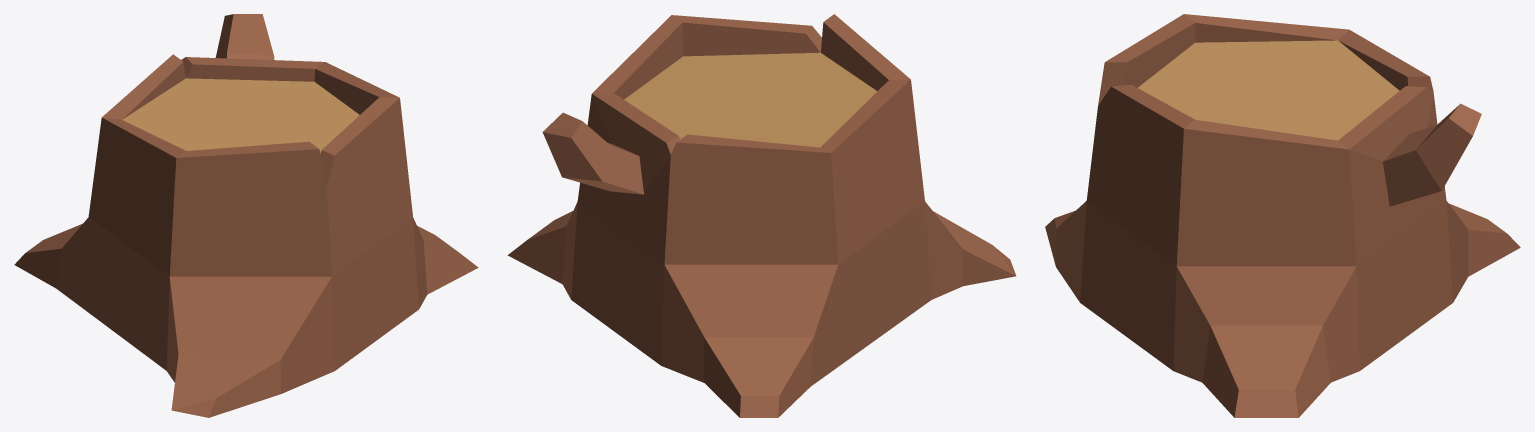
File: trunk.fbx
3 renders of one model, left to right at view 1: azimuth 30°, elevation 25°; view 2: azimuth 150°, elevation 25°; view 3: azimuth 270°, elevation 25°, orthographic. The views are drawn at different scales.
Visible parts, largest first — view 1: Circle; view 2: Circle; view 3: Circle.
Boxes of the visible parts, x1=… form: Circle: x1=14, y1=14, x2=478, y2=417; Circle: x1=507, y1=14, x2=1016, y2=417; Circle: x1=1045, y1=14, x2=1520, y2=417.
Size of the model in its own units: 85.03 by 46.5 by 83.86.
